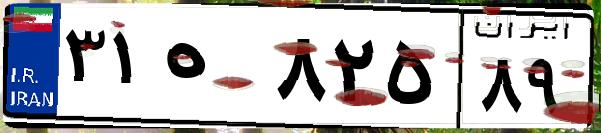1: (110, 28, 158, 98)
2: (330, 28, 385, 110)
3: (57, 26, 110, 100)
5: (385, 28, 445, 110)
8: (270, 28, 330, 110), (475, 38, 525, 113)
9: (525, 38, 570, 115)
ه: (158, 20, 270, 120)
